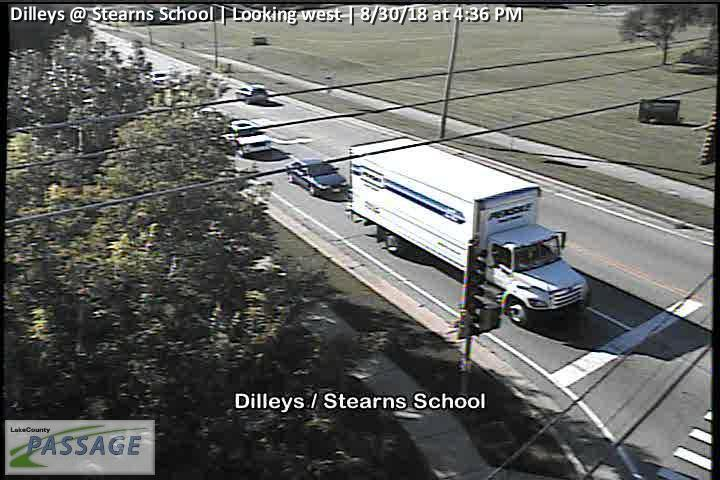SUV: (226, 118, 270, 158), (235, 85, 266, 105)
Sedan: (286, 159, 349, 198)
Truck: (348, 137, 593, 325)
